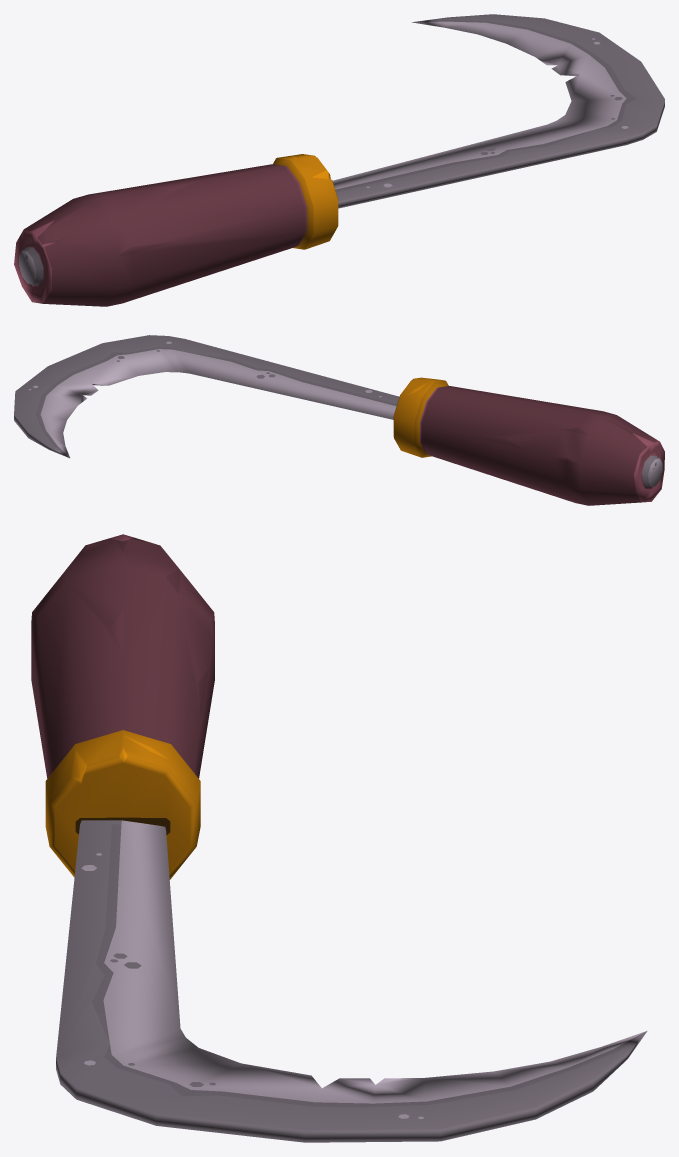
File: Tool_Sickle.fbx
The picture shows the model from 3 angles, top to bottom: view 1: azimuth 30°, elevation 25°; view 2: azimuth 150°, elevation 25°; view 3: azimuth 270°, elevation 25°; orthographic projection. The views are drawn at different scales.
Visible parts, largest first — view 1: Tool_Sickle; view 2: Tool_Sickle; view 3: Tool_Sickle.
Part boxes in pixels (x1,y1,x2,y2): Tool_Sickle: [14, 14, 664, 306]; Tool_Sickle: [14, 335, 664, 505]; Tool_Sickle: [31, 534, 647, 1142].
Bounding box in the file's own units: 55.27 × 8.23 × 26.24.
